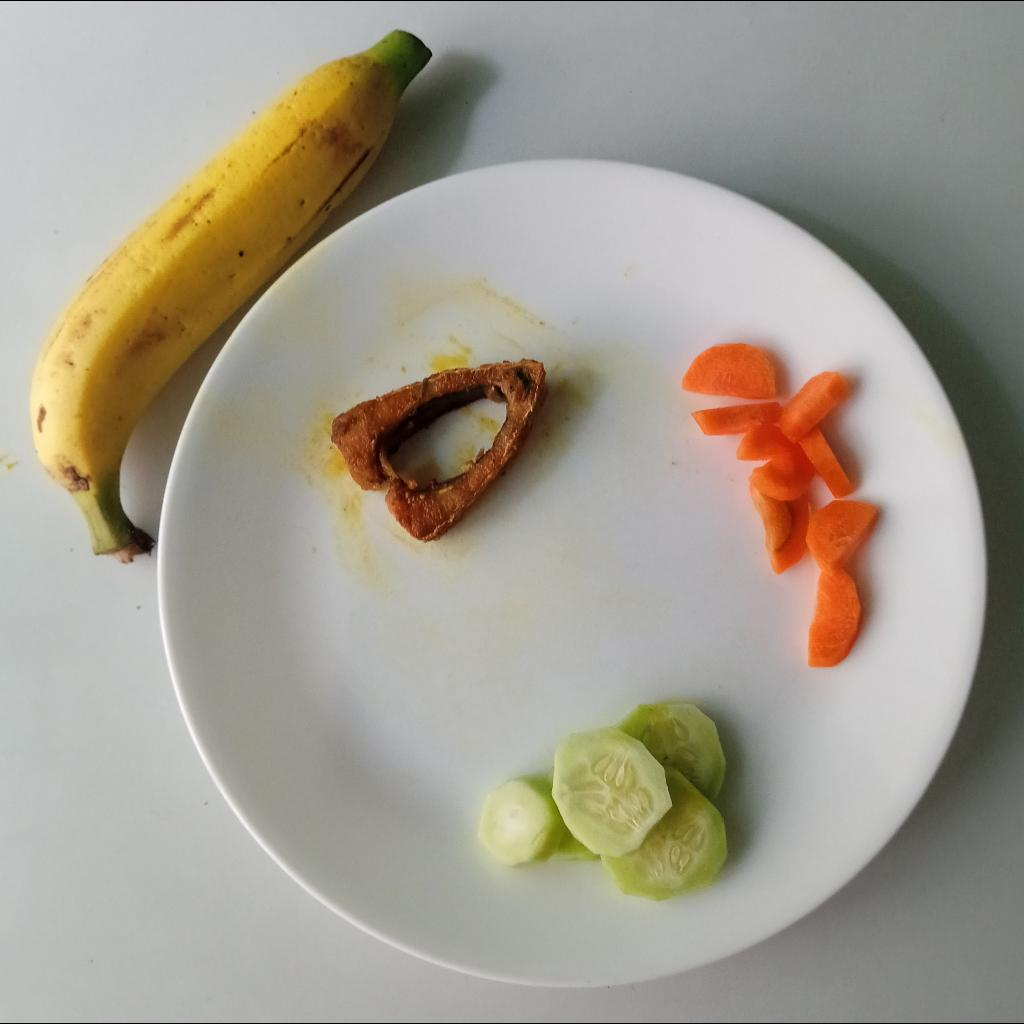banana: (18, 23, 440, 547)
carrot: (680, 338, 884, 672)
cucumber: (475, 704, 730, 901)
fish: (330, 360, 551, 545)
